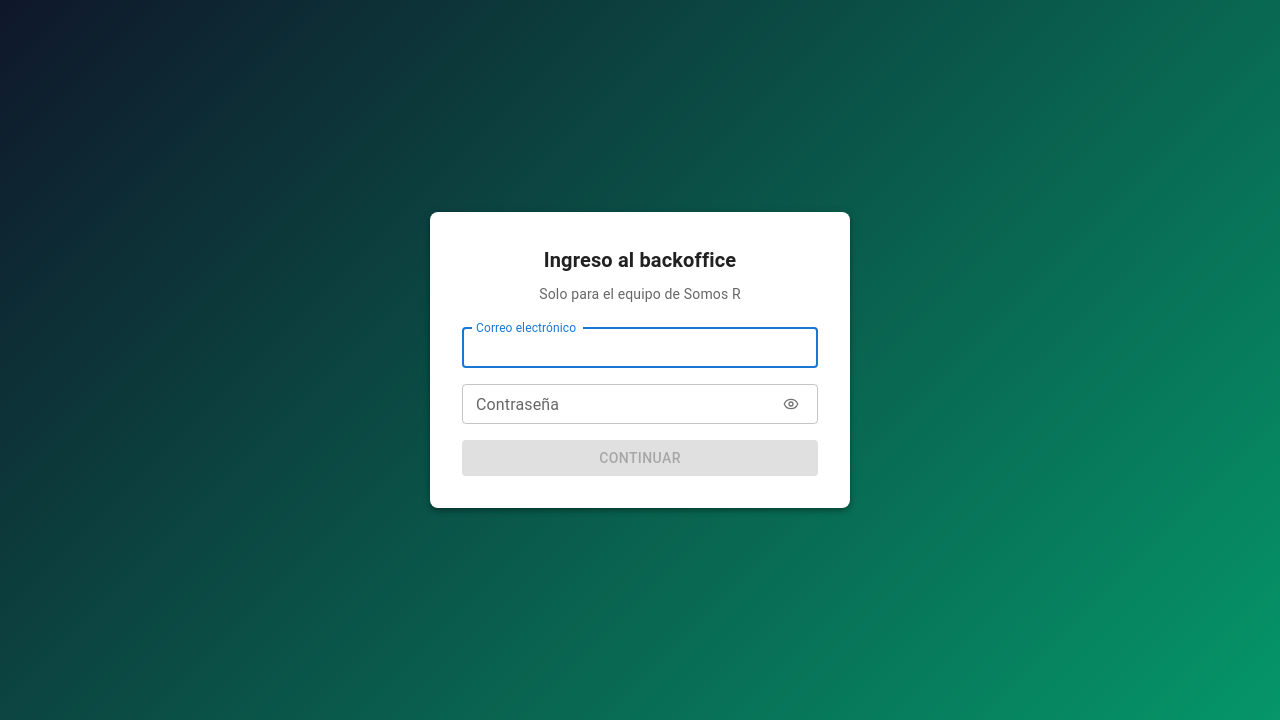
Test: sign-in with an authenticator code › asks for the password, then the code, and only then opens the session
Type "ana@somosr.co" into the field labelled "Correo electrónico".
click(640, 348); type("ana@somosr.co")  # box [462,328,818,368]
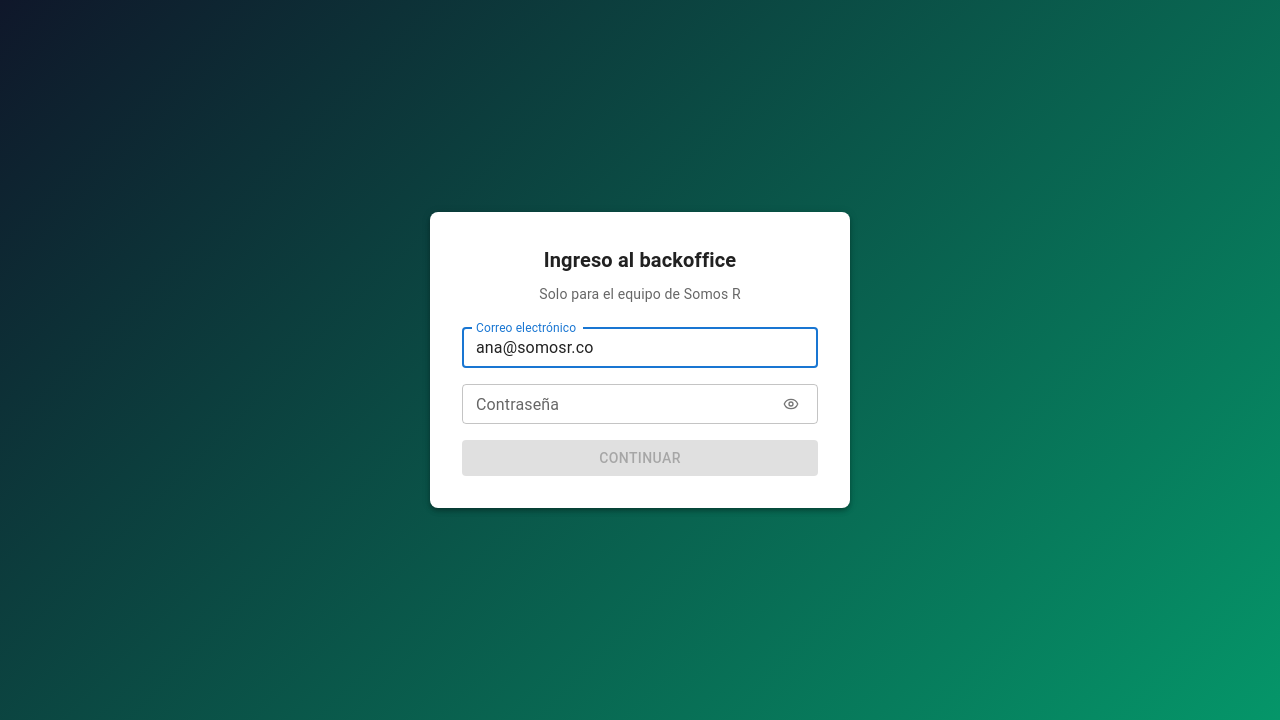
Type "CorrectHorse-9" into the password field labelled "Contraseña".
click(616, 404); type("CorrectHorse-9")  # box [462,384,770,424]
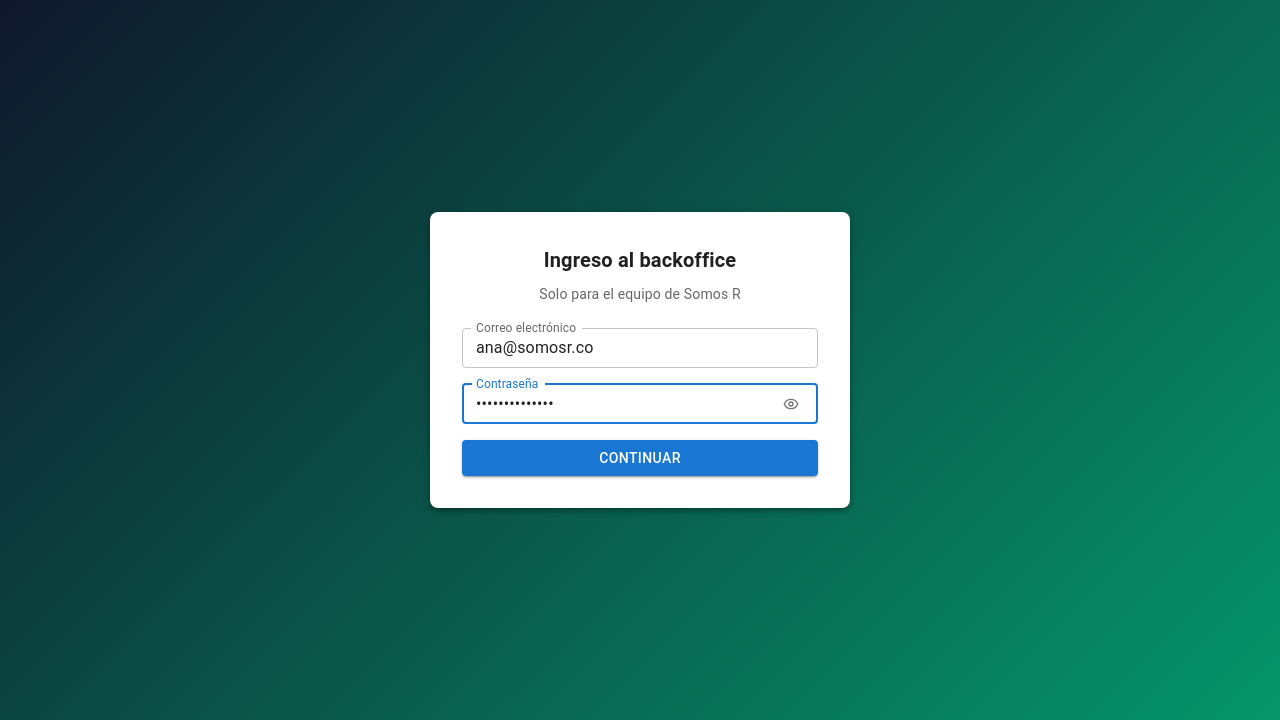
Click the button "Continuar".
click(640, 458)  # box [462,440,818,476]
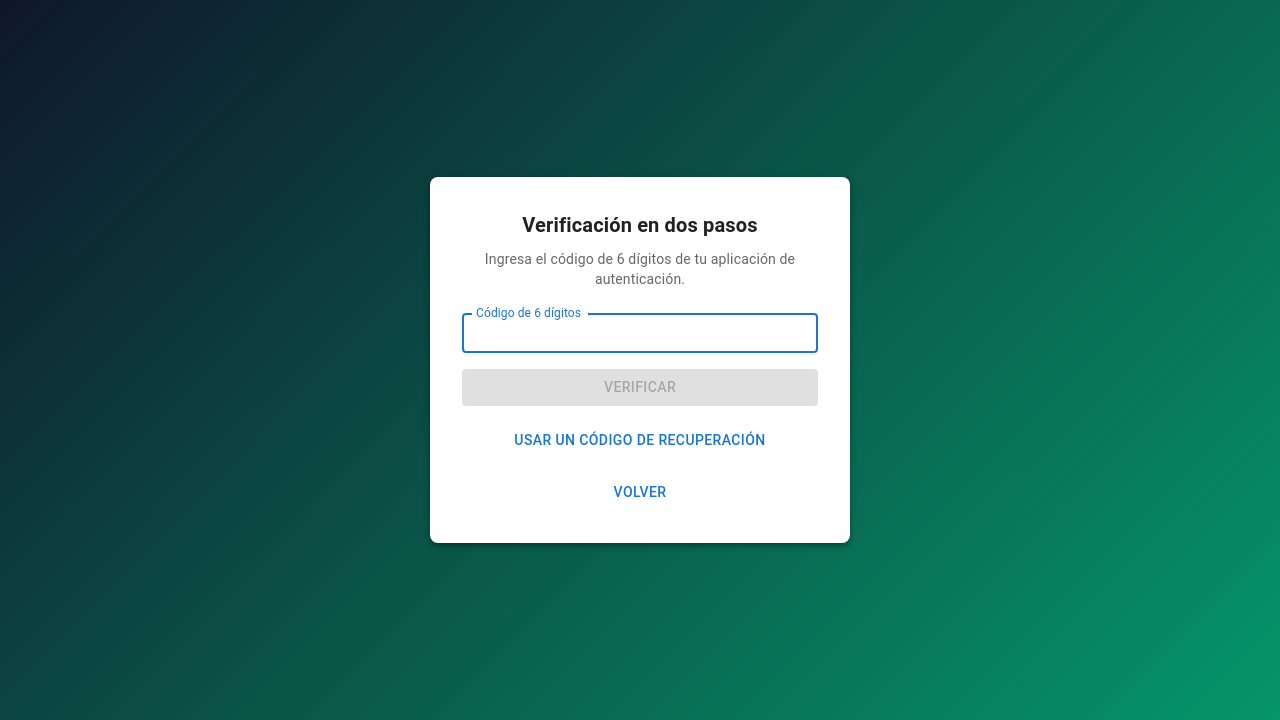
Check: the heading "Verificación en dos pasos" is shown, box [522,213,758,237]
Type "123456" into the field labelled "Código de 6 dígitos".
click(640, 333); type("123456")  # box [462,313,818,353]
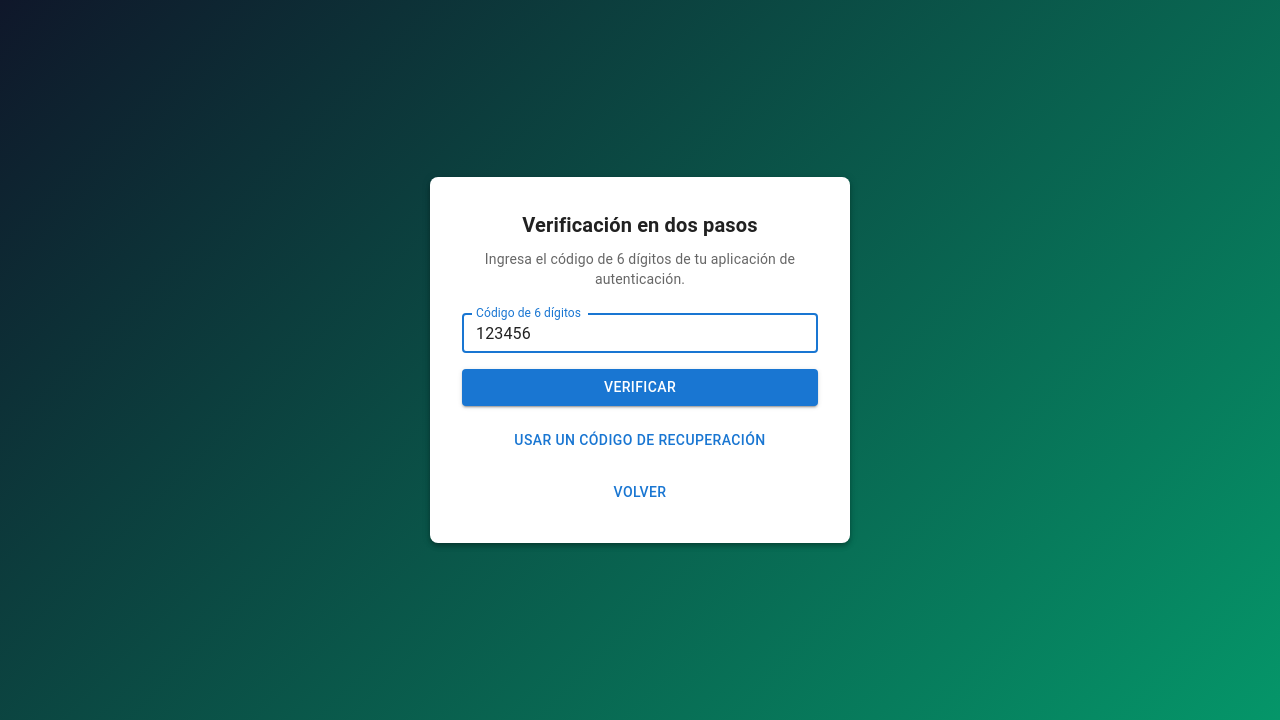
Click the button "Verificar".
click(640, 388)  # box [462,369,818,406]
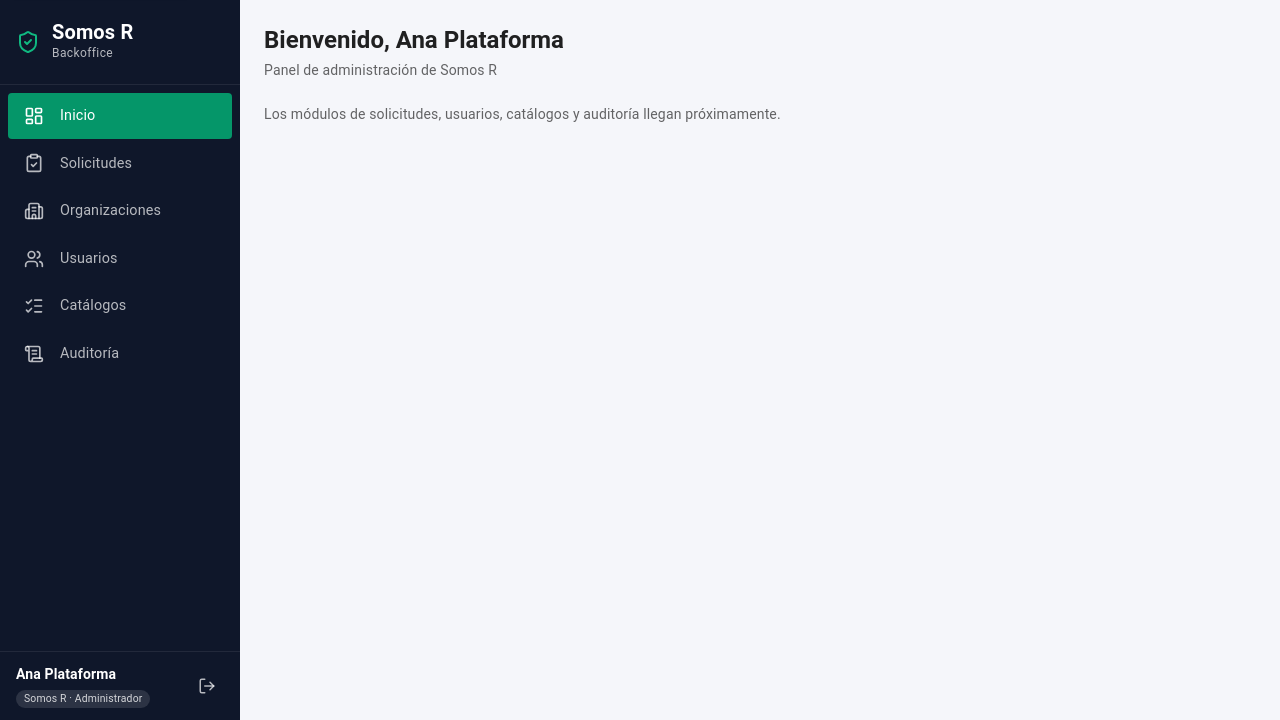
Check: the heading "Bienvenido, Ana Plataforma" is shown, box [264,26,564,54]
